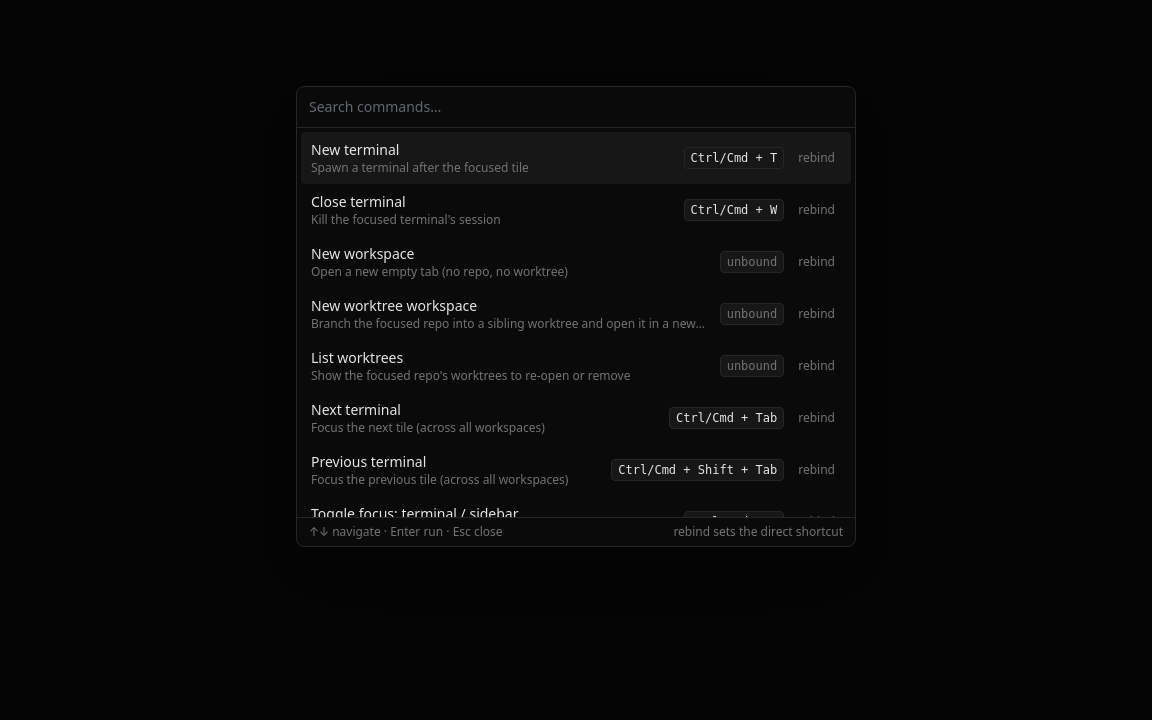
Test: CommandPalette Summon captain identity › uses durable Captain identity, never the tab name or Claude title
// Surface the dynamic captain entry by searching for it.
In the field with placeholder "Search commands…": [576, 107] box [309,97,843,117], type "Summon captain"
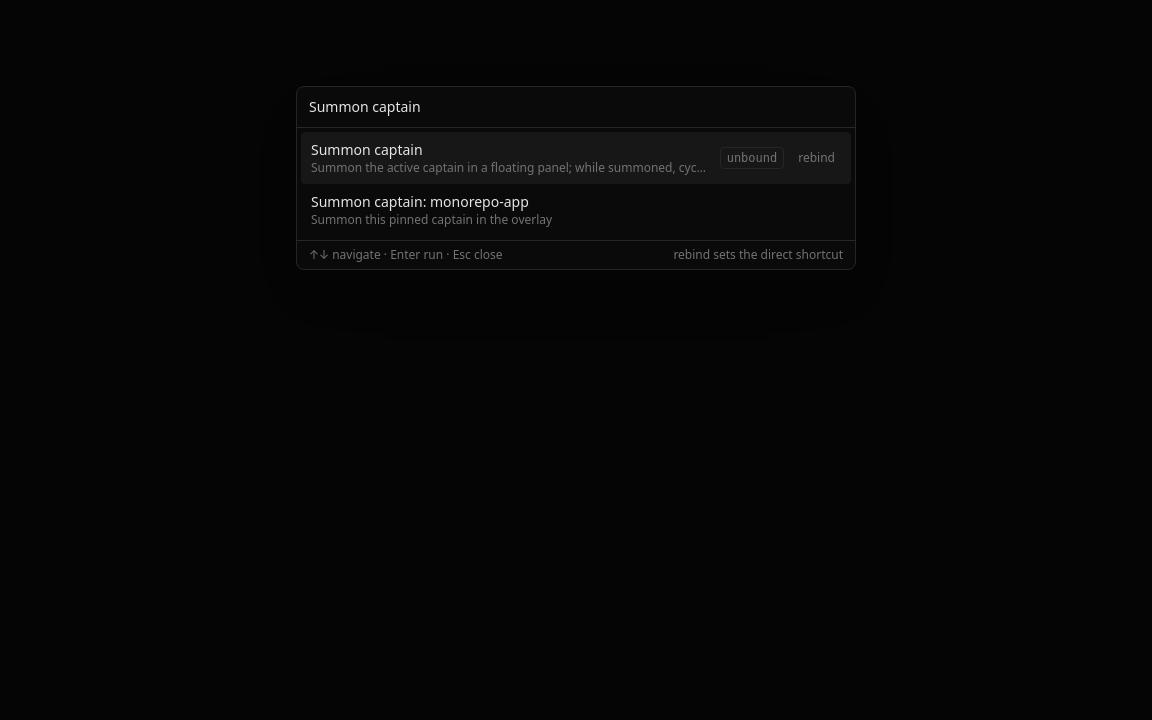
Expected: the text "Summon captain: monorepo-app" is shown, [311,192,552,212]
